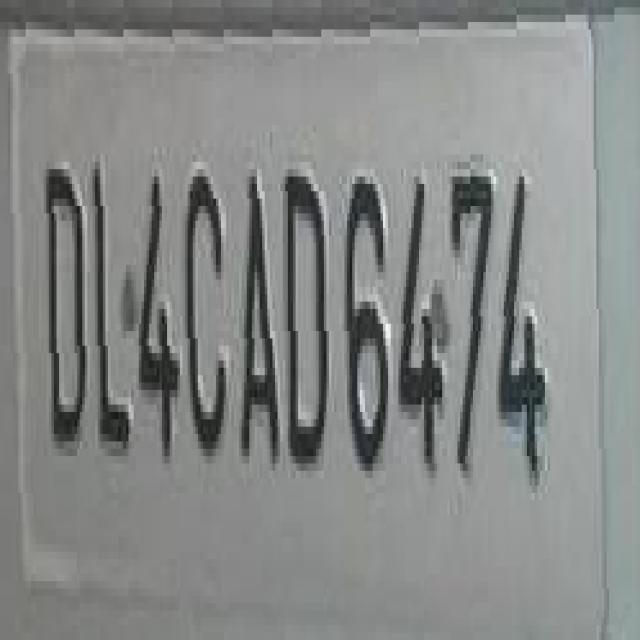plate: (25, 29, 640, 603)
